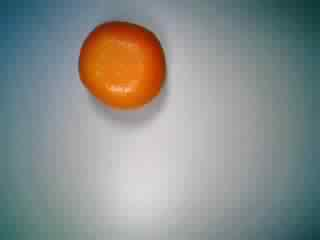orange: (73, 19, 174, 114)
